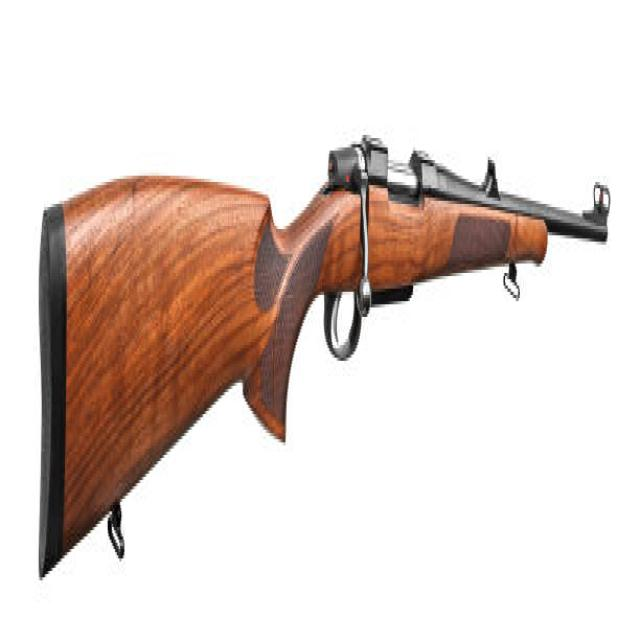rifle: (29, 115, 617, 594)
